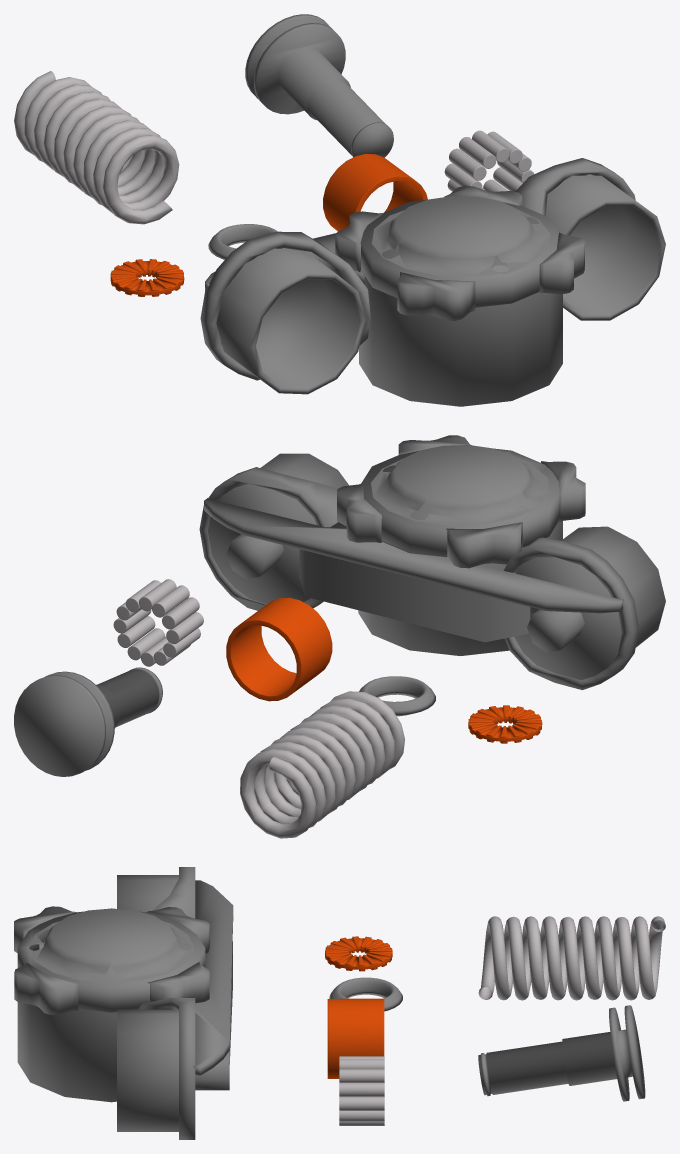
The model's file is bearing.gltf.
The picture shows the model from 3 angles, top to bottom: view 1: azimuth 30°, elevation 25°; view 2: azimuth 150°, elevation 25°; view 3: azimuth 270°, elevation 25°; orthographic projection. The views are drawn at different scales.
Parts seen in each view (by area): view 1: bearing bod, bearing spring, roller bearing cov; view 2: bearing bod, bearing spring, roller bearing cov; view 3: bearing bod, bearing spring, roller bearing cov.
Part boxes in pixels (<box>): bearing bod: <box>200,158,665,406</box>; bearing spring: <box>14,14,393,224</box>; roller bearing cov: <box>110,130,534,296</box>; bearing bod: <box>199,435,665,690</box>; bearing spring: <box>14,667,404,838</box>; roller bearing cov: <box>113,579,542,743</box>; bearing bod: <box>14,867,233,1139</box>; bearing spring: <box>478,916,665,1101</box>; roller bearing cov: <box>325,936,402,1125</box>.
Bounding box in the file's own units: 0.7091 × 0.2264 × 1.01.
